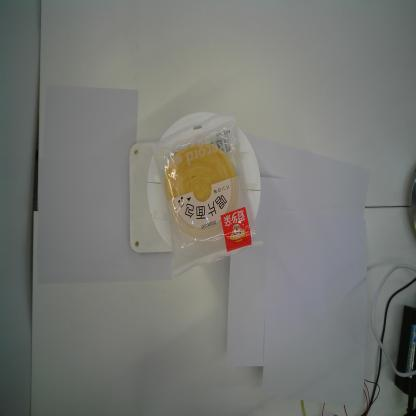Dessert: (149, 109, 266, 279)
